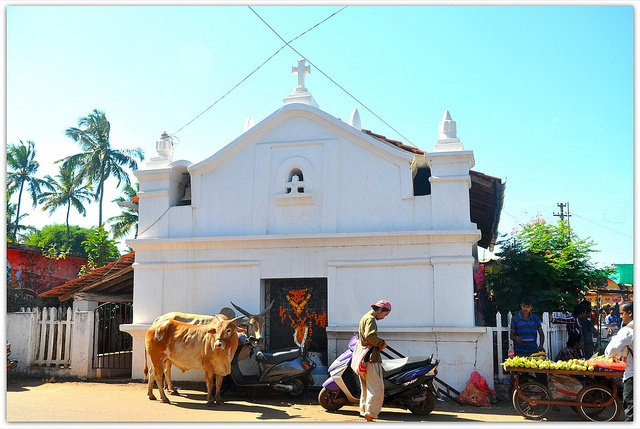non-vehicle: (314, 334, 438, 417), (221, 331, 316, 402)
